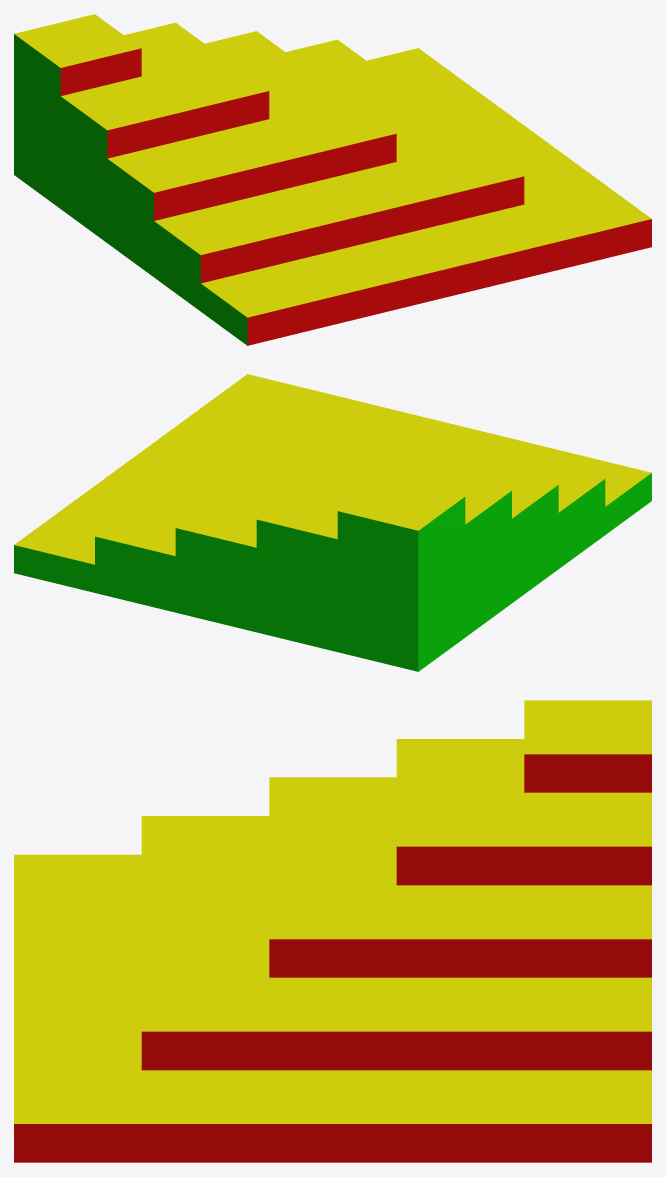
File: Foundation_Stairs_002_Corner_3x3x1.fbx
3 renders of one model, top to bottom at view 1: azimuth 30°, elevation 25°; view 2: azimuth 150°, elevation 25°; view 3: azimuth 270°, elevation 25°, orthographic. The views are drawn at different scales.
Parts seen in each view (by area): view 1: Foundation_Stairs_002_Corner_3x3x1; view 2: Foundation_Stairs_002_Corner_3x3x1; view 3: Foundation_Stairs_002_Corner_3x3x1.
Boxes of the visible parts, bbox=[...] form: Foundation_Stairs_002_Corner_3x3x1: bbox=[14, 14, 651, 345]; Foundation_Stairs_002_Corner_3x3x1: bbox=[14, 374, 651, 671]; Foundation_Stairs_002_Corner_3x3x1: bbox=[14, 700, 651, 1162].
Bounding box in the file's own units: 300 × 100 × 300.
